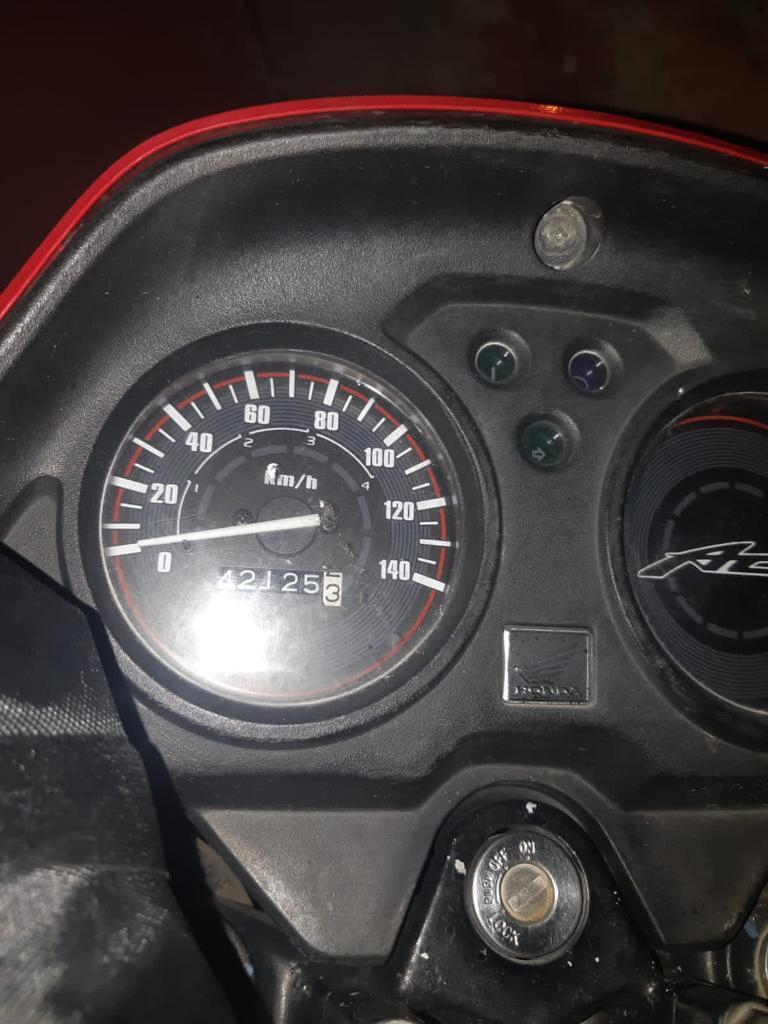1: (265, 570, 271, 590)
2: (239, 569, 256, 590), (281, 572, 298, 591)
3: (325, 583, 340, 602)
4: (219, 569, 234, 589)
5: (303, 573, 319, 593)
odometer: (213, 564, 345, 608)
